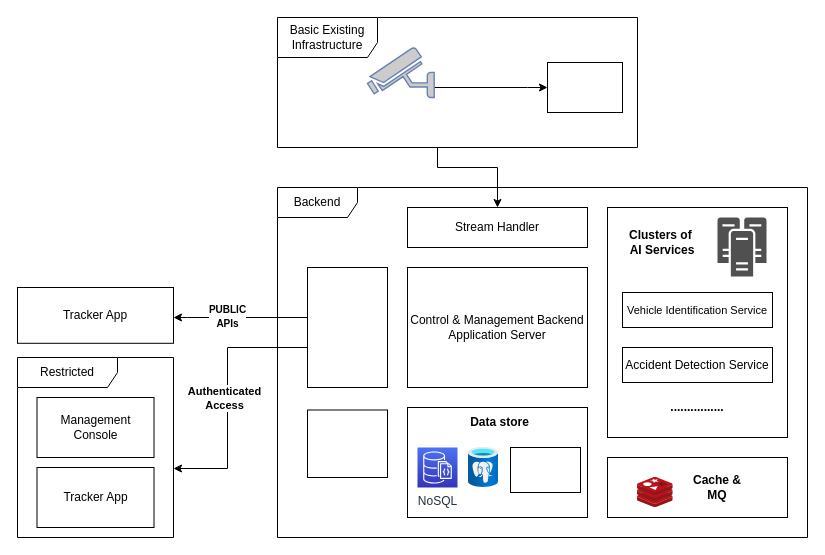
Image size: 825x555. Some labels were removed from this diagram. Here are the shapes that lost their labels. From the top down, the box of each, then its label:
(546, 62, 622, 112): NVR
(306, 266, 388, 388): Load Balancer & Reverse Proxy
(306, 409, 388, 478): Notification Service
(468, 447, 498, 487): SQL
(510, 446, 580, 492): MinIO or File system
